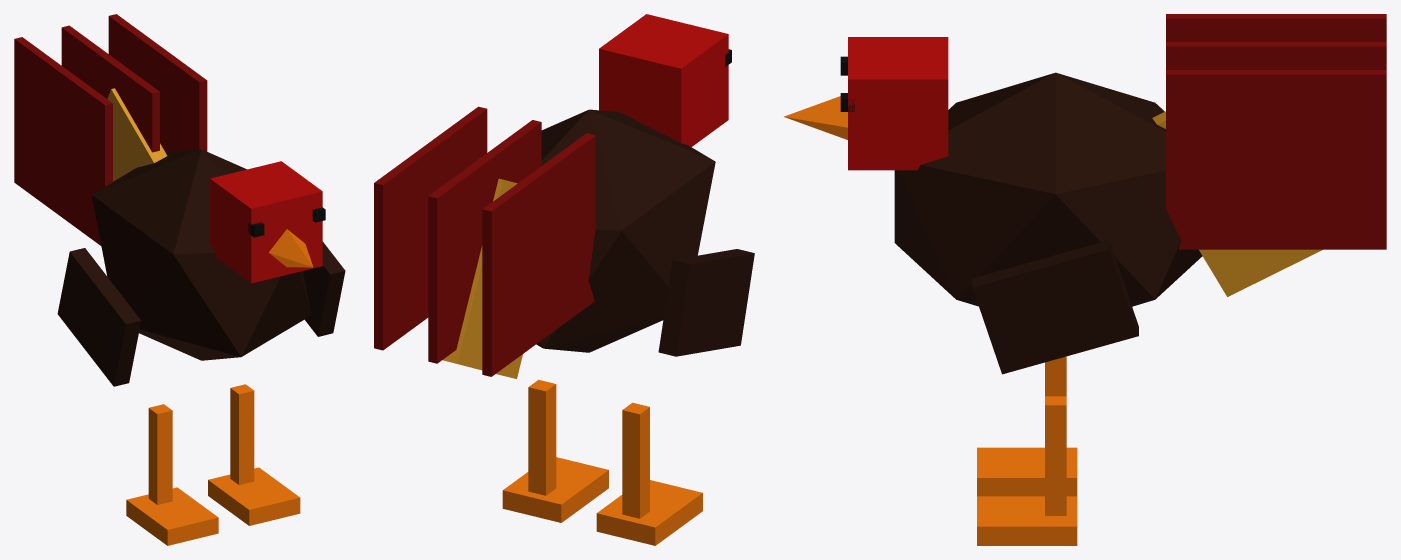
Rendered from turkey.obj.
The picture shows the model from 3 angles, left to right: view 1: azimuth 30°, elevation 25°; view 2: azimuth 150°, elevation 25°; view 3: azimuth 270°, elevation 25°; orthographic projection. The views are drawn at different scales.
Parts seen in each view (by area): view 1: turkey; view 2: turkey; view 3: turkey.
Boxes of the visible parts, x1,y1,x2,y2 form: turkey: (14, 14, 345, 545); turkey: (374, 14, 754, 545); turkey: (784, 14, 1386, 545).
Size of the model in its own units: 0.559 by 0.925 by 1.09.
